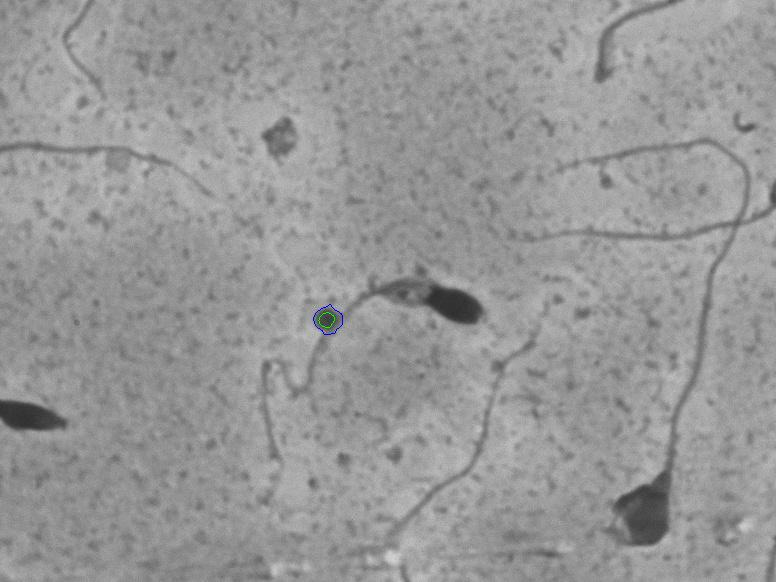Abnormal: (568, 245, 758, 555), (248, 240, 481, 480)
